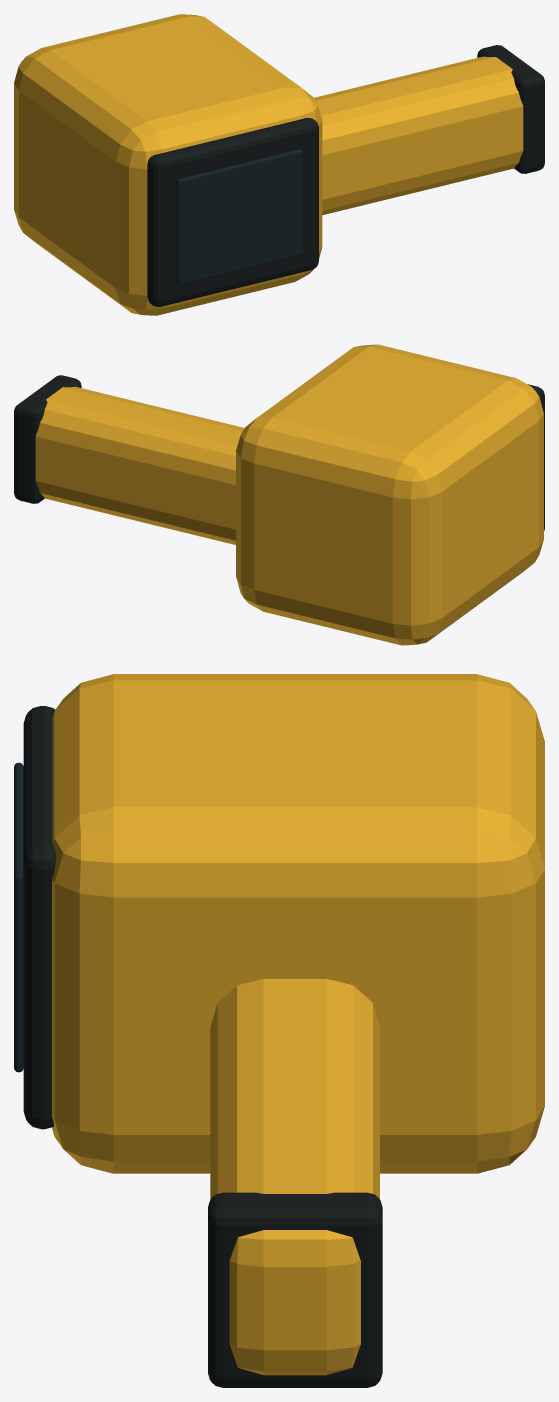
3 renders of one model, top to bottom at view 1: azimuth 30°, elevation 25°; view 2: azimuth 150°, elevation 25°; view 3: azimuth 270°, elevation 25°, orthographic. The views are drawn at different scales.
Visible parts, largest first — view 1: Wide yellow handheld head, Broad black head back, Unknown dark head face; view 2: Wide yellow handheld head, Broad black head back; view 3: Wide yellow handheld head, Broad black head back, Unknown dark head face.
Boxes of the visible parts, x1=… form: Wide yellow handheld head: x1=14, y1=14, x2=523, y2=315; Broad black head back: x1=147, y1=45, x2=544, y2=306; Unknown dark head face: x1=176, y1=149, x2=302, y2=284; Wide yellow handheld head: x1=35, y1=344, x2=543, y2=645; Broad black head back: x1=14, y1=375, x2=544, y2=530; Wide yellow handheld head: x1=52, y1=674, x2=544, y2=1375; Broad black head back: x1=23, y1=706, x2=382, y2=1387; Unknown dark head face: x1=14, y1=762, x2=23, y2=1072.
Size of the model in its own units: 0.207 by 0.082 by 0.1095.
